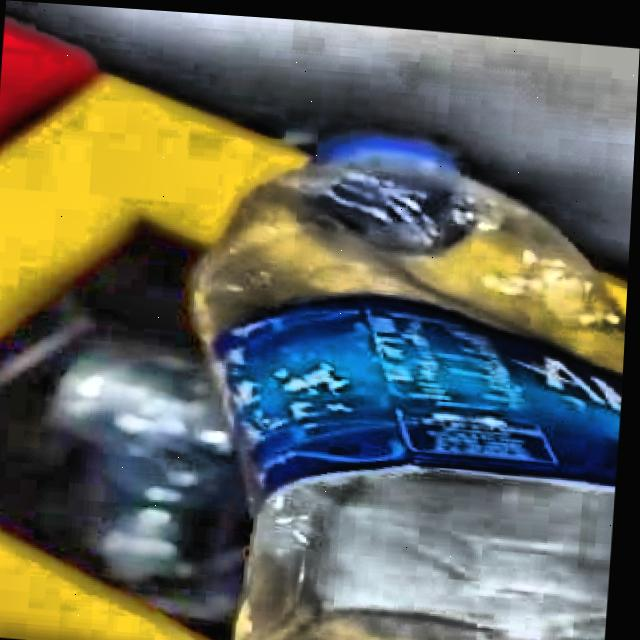plastic: (196, 132, 629, 640)
